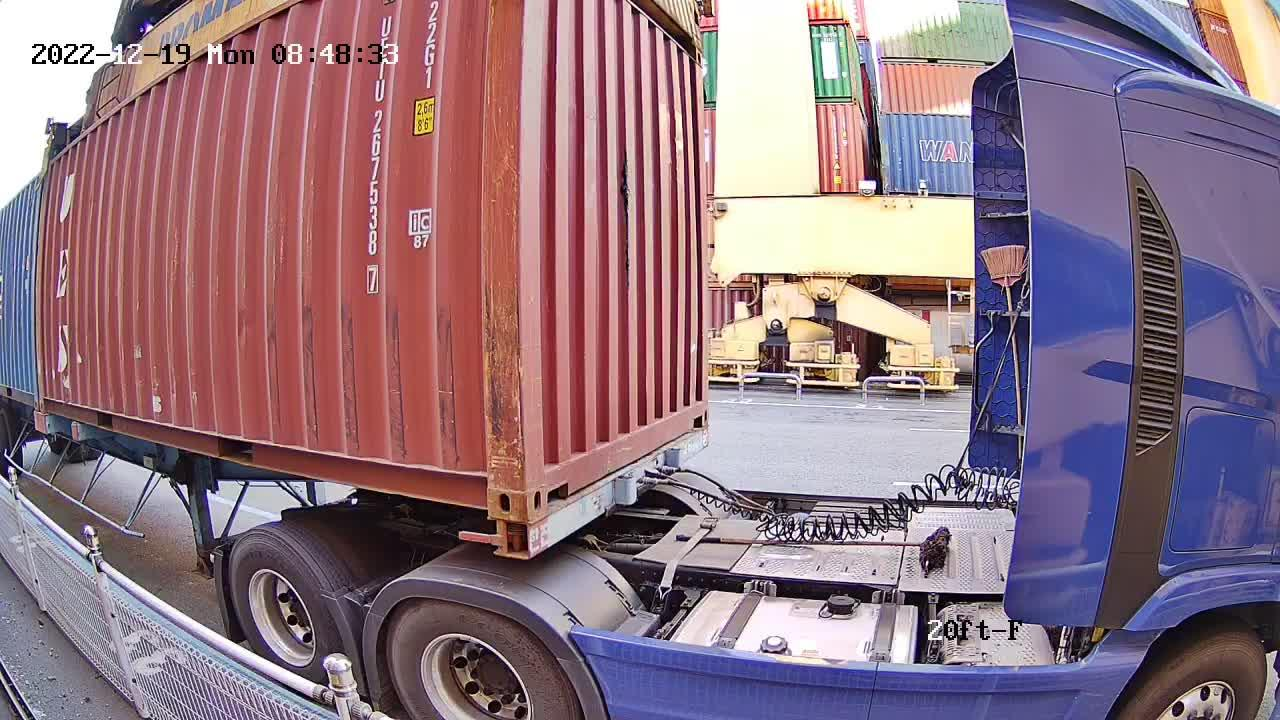Chassis: (489, 427, 710, 558)
Cone: (488, 520, 525, 557)
Hole_L: (525, 446, 570, 523)
Hole_R: (462, 453, 528, 523), (686, 380, 710, 432)
Tire: (388, 603, 569, 719), (231, 536, 336, 684)
